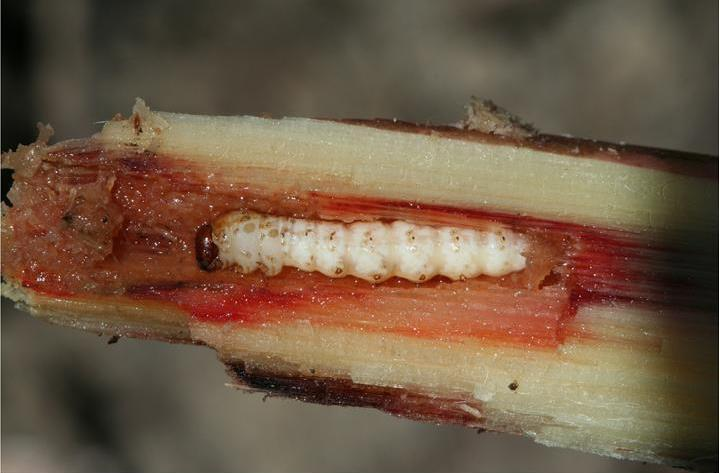Insects: (192, 201, 538, 293)
